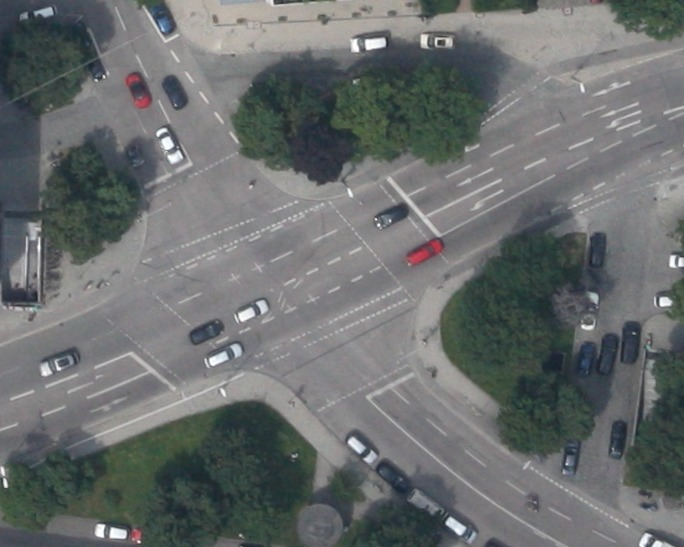car: (404, 486, 445, 523), (35, 346, 79, 379), (373, 458, 411, 494), (439, 510, 477, 544), (152, 124, 183, 165), (403, 236, 444, 267), (201, 340, 244, 369), (159, 72, 189, 110), (231, 297, 269, 325), (187, 318, 224, 346), (124, 71, 151, 109), (147, 1, 176, 36), (594, 332, 618, 374), (18, 1, 58, 26), (345, 433, 377, 464), (618, 320, 641, 363), (371, 202, 406, 229), (605, 418, 627, 459), (578, 290, 599, 330), (348, 34, 388, 54), (83, 53, 107, 83), (92, 521, 129, 540), (561, 437, 579, 474), (576, 341, 594, 377), (587, 231, 605, 266), (419, 32, 455, 49), (124, 144, 145, 168)
